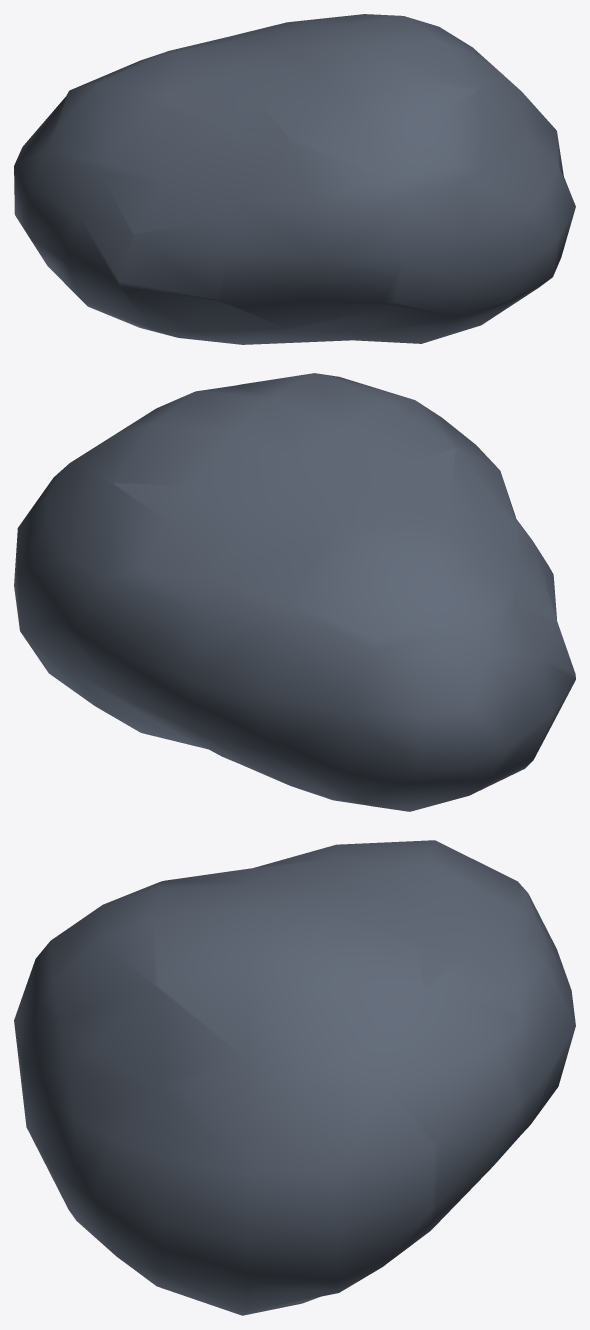
The model's file is RocaMediana.fbx.
3 views of the same model, one above another, from view 1: azimuth 30°, elevation 25°; view 2: azimuth 150°, elevation 25°; view 3: azimuth 270°, elevation 25° (orthographic). The views are drawn at different scales.
Visible parts, largest first — view 1: RocaMediana_Piedra; view 2: RocaMediana_Piedra; view 3: RocaMediana_Piedra.
Part boxes in pixels (x1,y1,x2,y2): RocaMediana_Piedra: [14, 14, 575, 344]; RocaMediana_Piedra: [14, 373, 575, 811]; RocaMediana_Piedra: [14, 840, 575, 1315].
Bounding box in the file's own units: 3.8 × 2.29 × 3.24.
